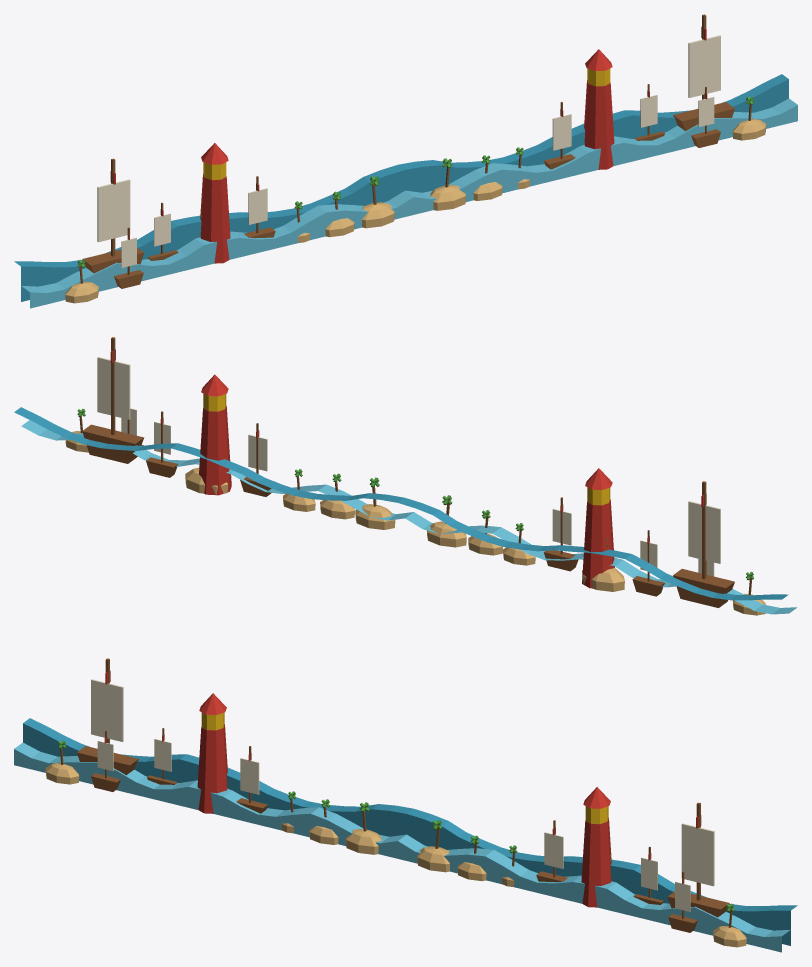
The model's file is backdrop_pirate.glb.
3 renders of one model, top to bottom at view 1: azimuth 30°, elevation 25°; view 2: azimuth 150°, elevation 25°; view 3: azimuth 330°, elevation 25°, orthographic.
Visible parts, largest first — view 1: backdrop_pirate; view 2: backdrop_pirate; view 3: backdrop_pirate.
Boxes of the visible parts, x1,y1,x2,y2 form: backdrop_pirate: (14,14,797,308); backdrop_pirate: (14,337,797,615); backdrop_pirate: (14,658,797,952).
Bounding box in the file's own units: 260 × 40 × 14.
1 material, 1 textured.
